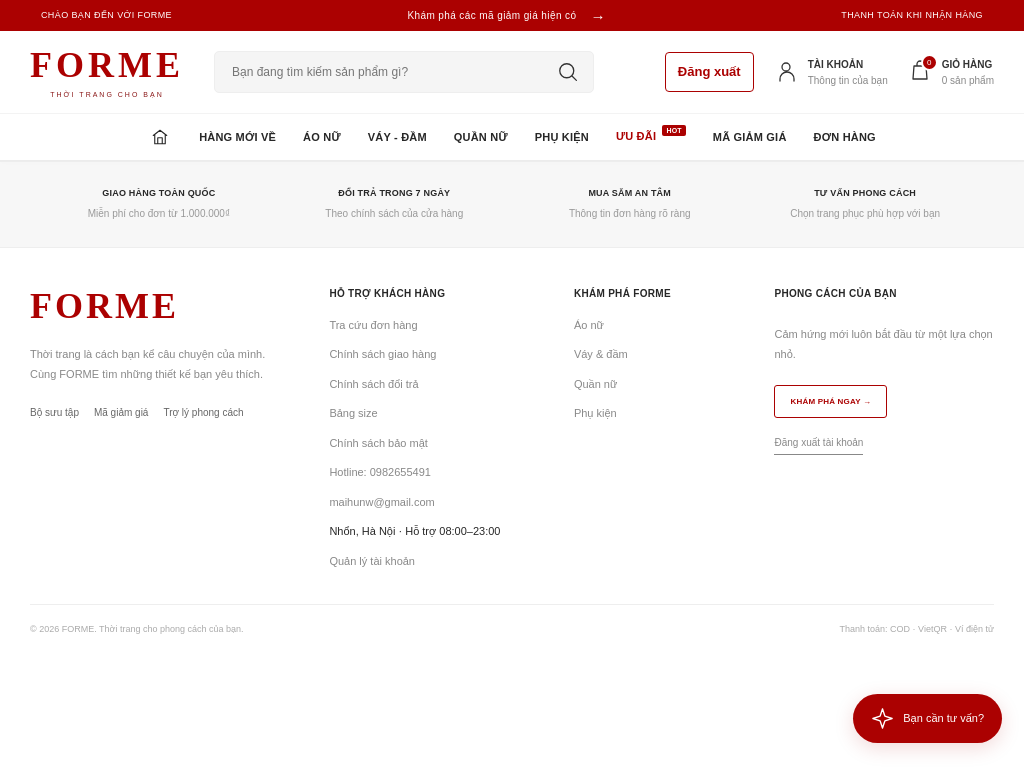
provides a visible header logout button that clears session and private cached data
Expected: the header "Đăng xuất" is shown, [0,31,1023,161]
Click the button "Đăng xuất": [709, 72] box [665,52,754,92]
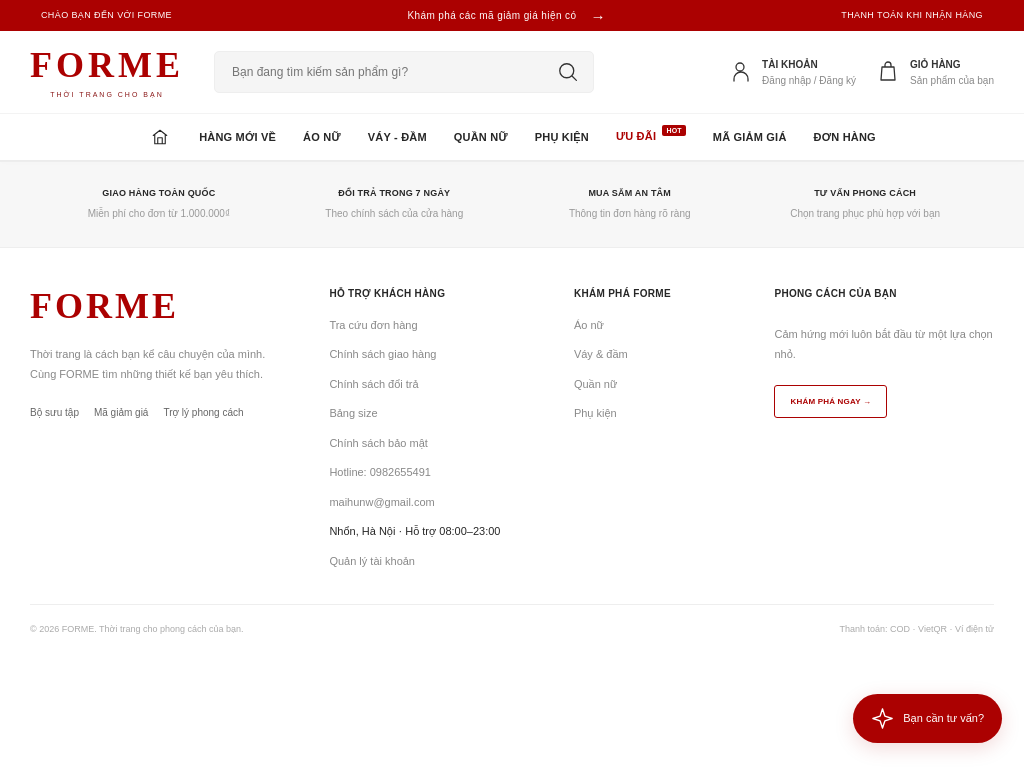
Expected: the button "Đăng xuất" is gone
